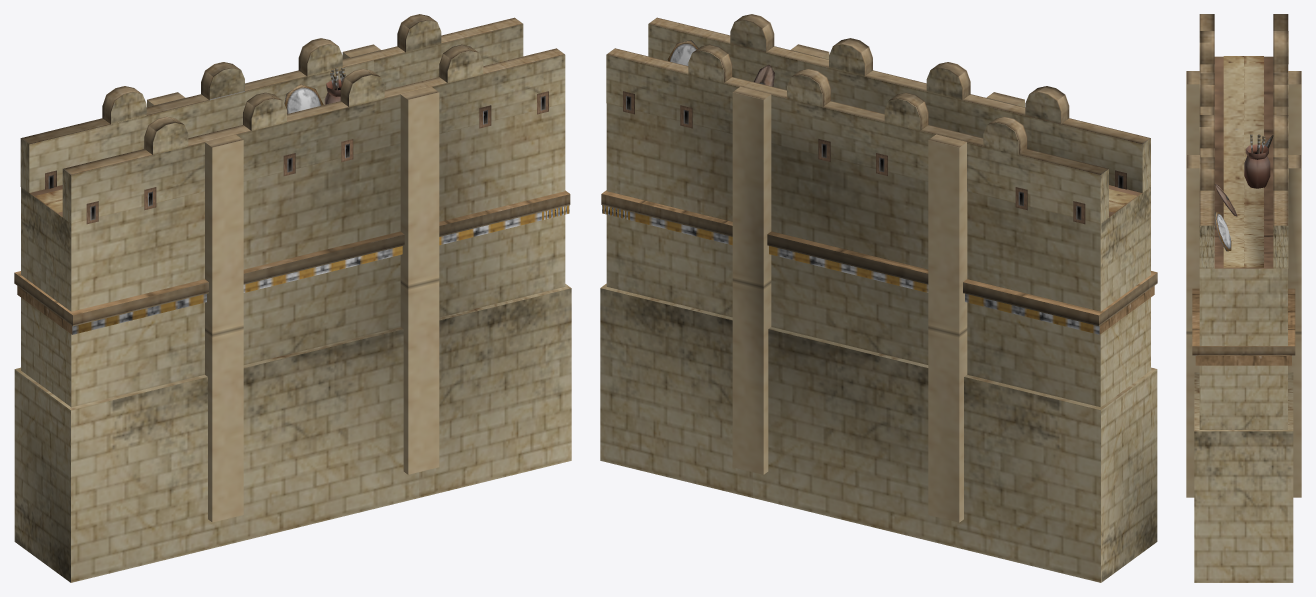
Rendered from s_ptolemies_wall_medium.glb.
3 views of the same model, side by side, from view 1: azimuth 30°, elevation 25°; view 2: azimuth 150°, elevation 25°; view 3: azimuth 270°, elevation 25° (orthographic). The views are drawn at different scales.
Parts seen in each view (by area): view 1: s_ptolemies_wall_medium_part0; view 2: s_ptolemies_wall_medium_part0; view 3: s_ptolemies_wall_medium_part0.
Part boxes in pixels (x1,y1,x2,y2): s_ptolemies_wall_medium_part0: (14,14,571,582); s_ptolemies_wall_medium_part0: (600,14,1157,582); s_ptolemies_wall_medium_part0: (1186,14,1301,582).
Size of the model in its own units: 6.43 by 5.3 by 1.46.
1 material, 1 textured.
